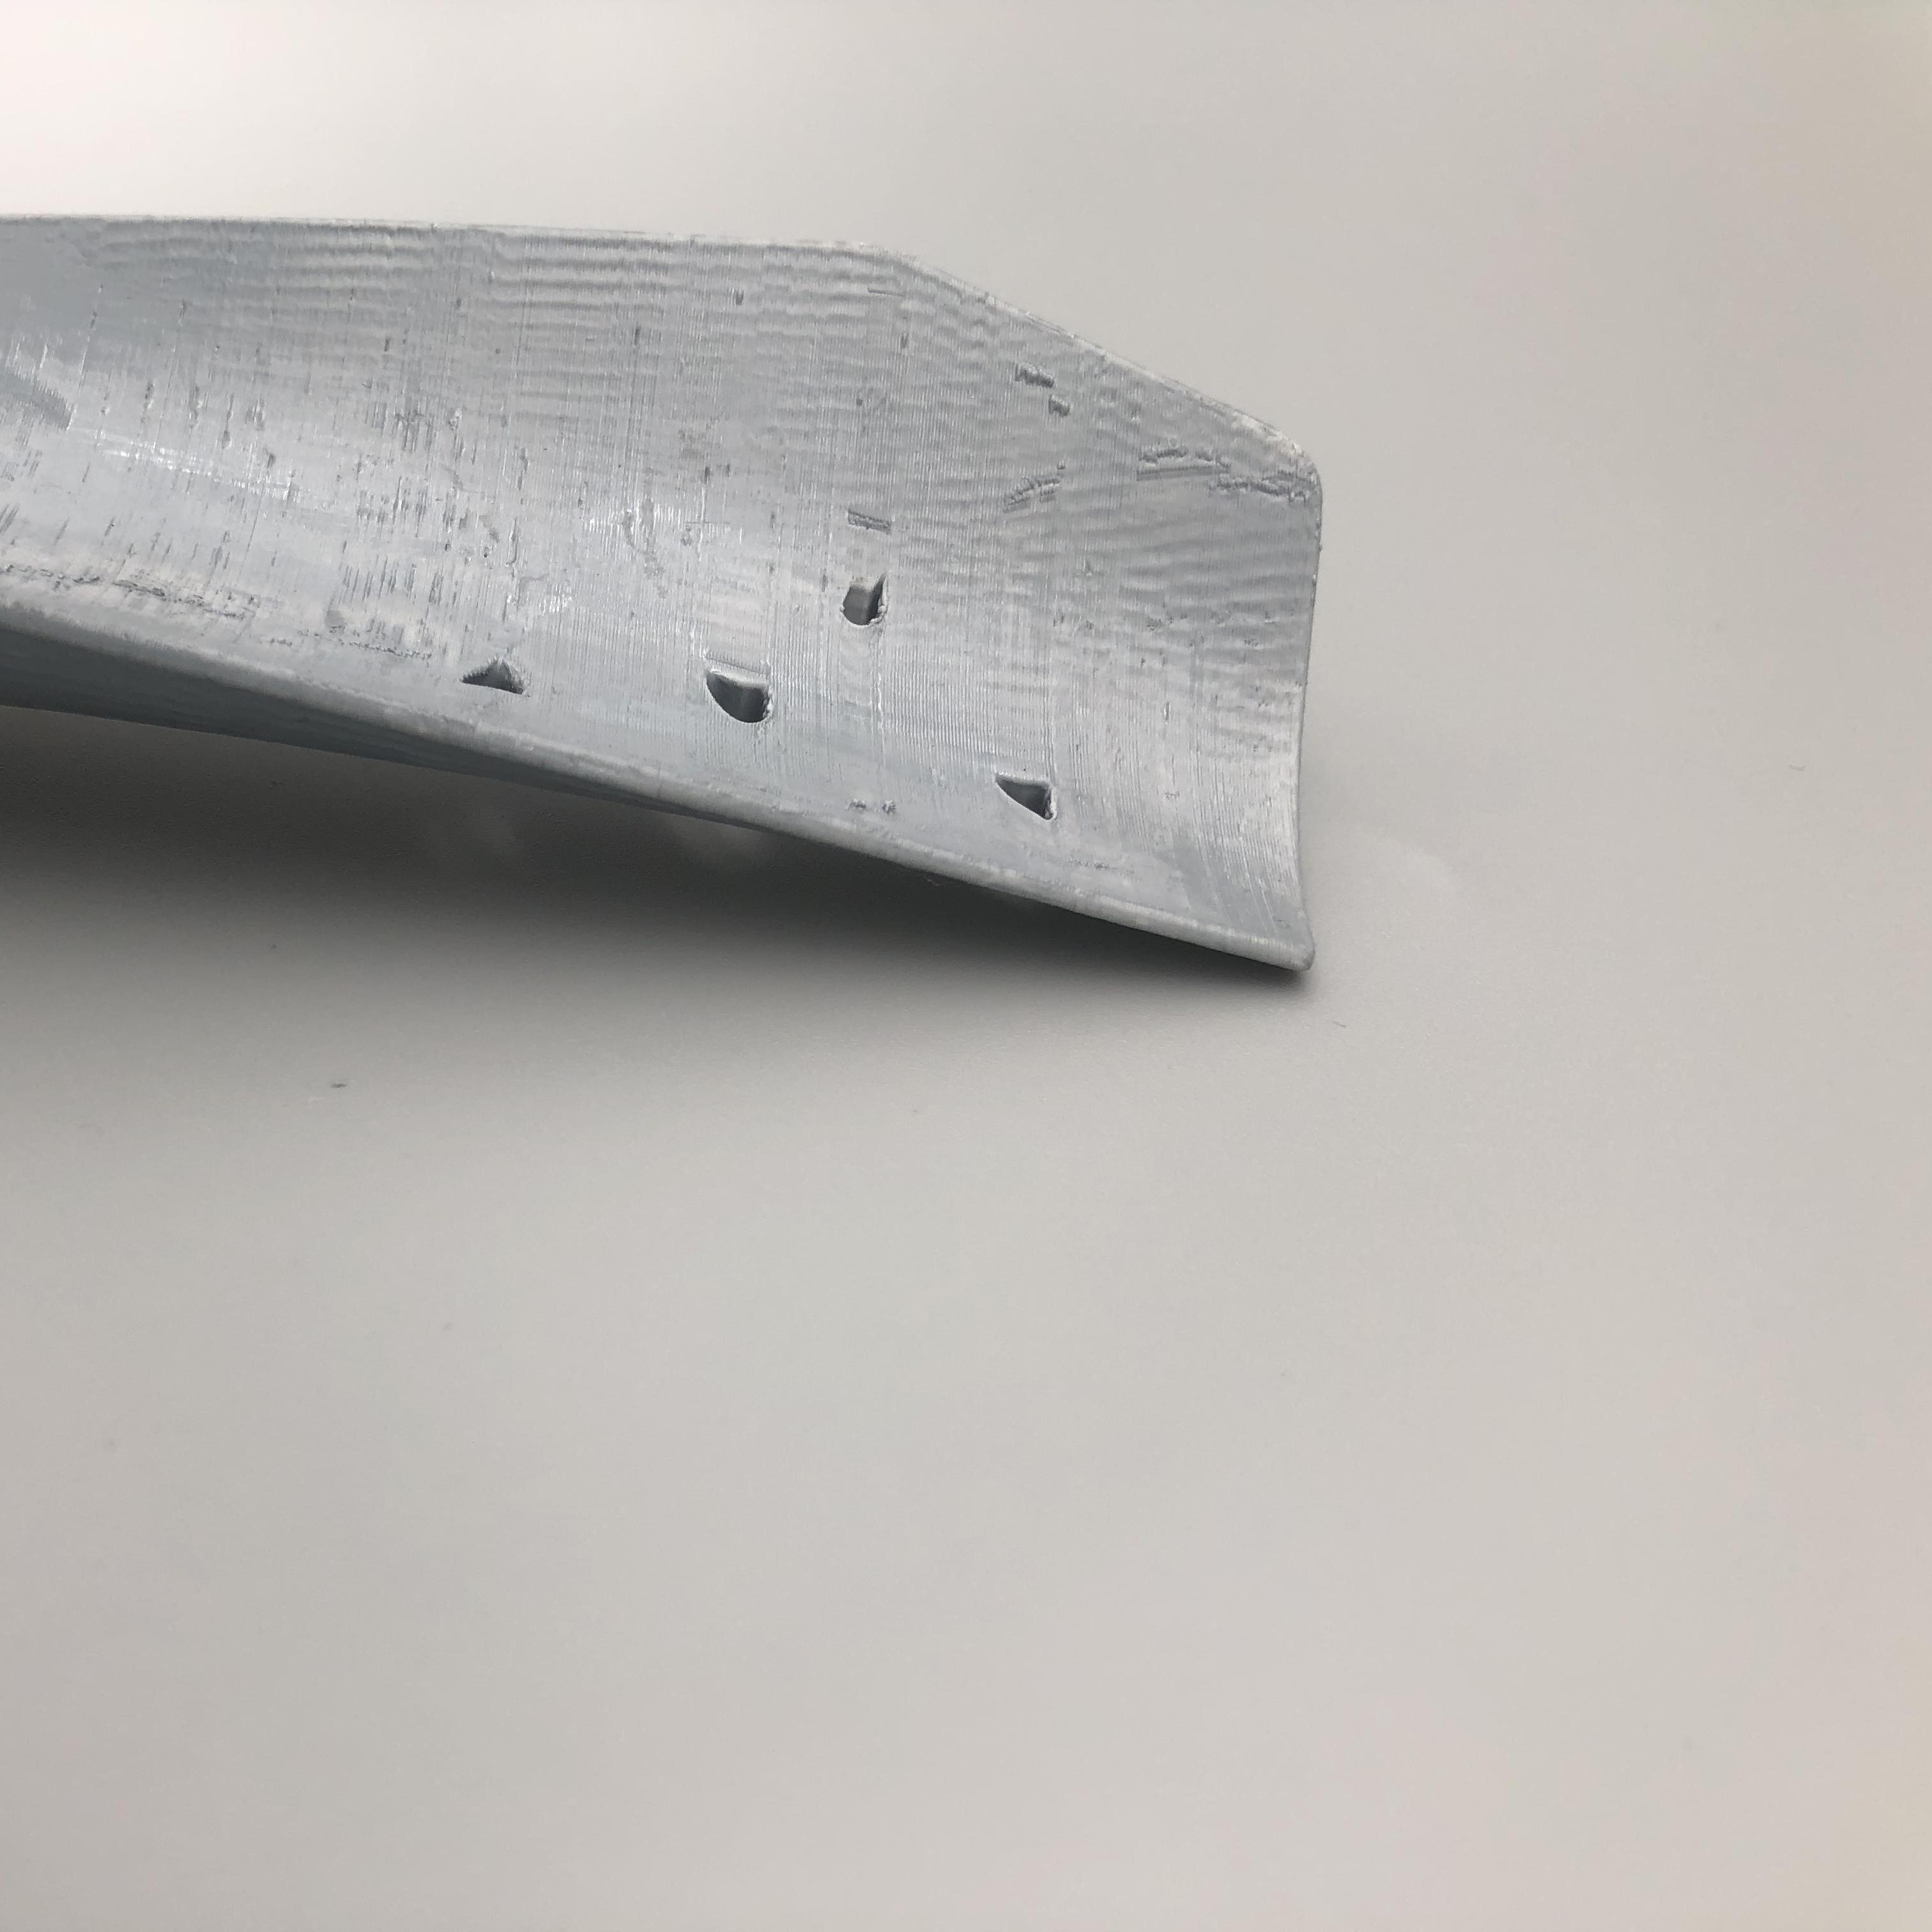breakdown: (471, 573, 1085, 839)
